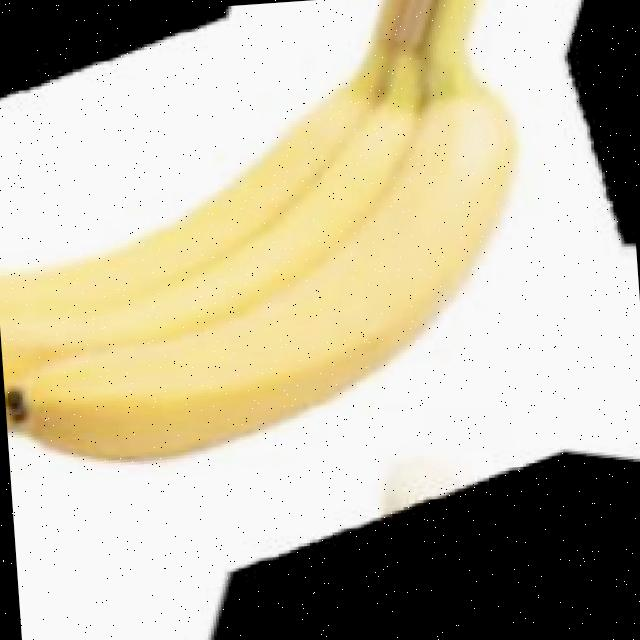banana: (0, 11, 557, 534), (0, 77, 546, 489)
